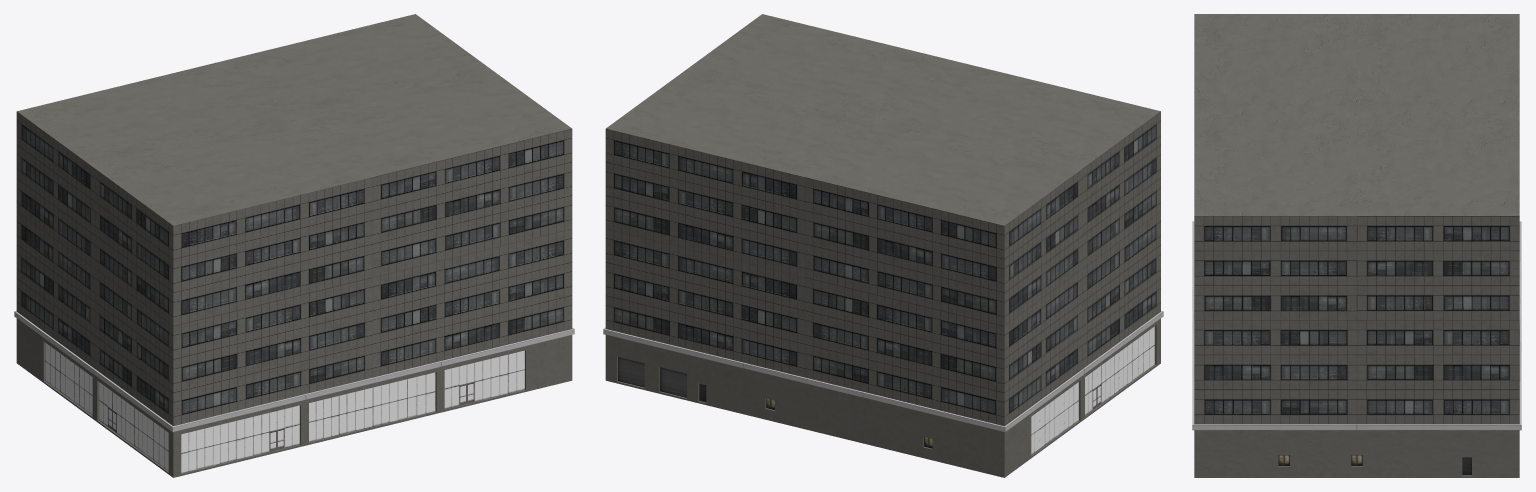
File: office_building_1.fbx
The picture shows the model from 3 angles, left to right: view 1: azimuth 30°, elevation 25°; view 2: azimuth 150°, elevation 25°; view 3: azimuth 270°, elevation 25°; orthographic projection. The views are drawn at different scales.
Parts seen in each view (by area): view 1: office_building_1; view 2: office_building_1; view 3: office_building_1.
Boxes of the visible parts, <box> form: office_building_1: <box>14,14,574,477</box>; office_building_1: <box>603,14,1163,477</box>; office_building_1: <box>1192,14,1521,477</box>.
Bounding box in the file's own units: 5041 × 3020 × 3441.
